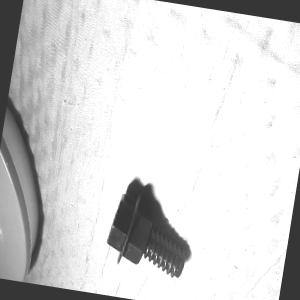parafuso: (101, 187, 194, 279)
